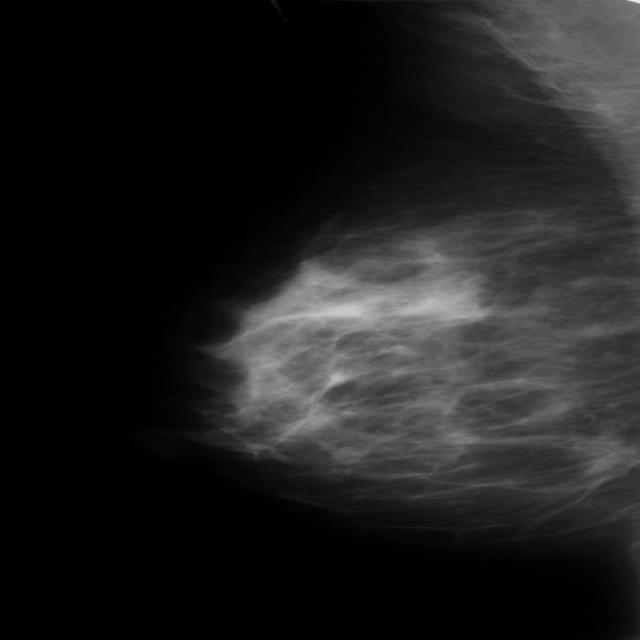tumour: (570, 436, 638, 470)
